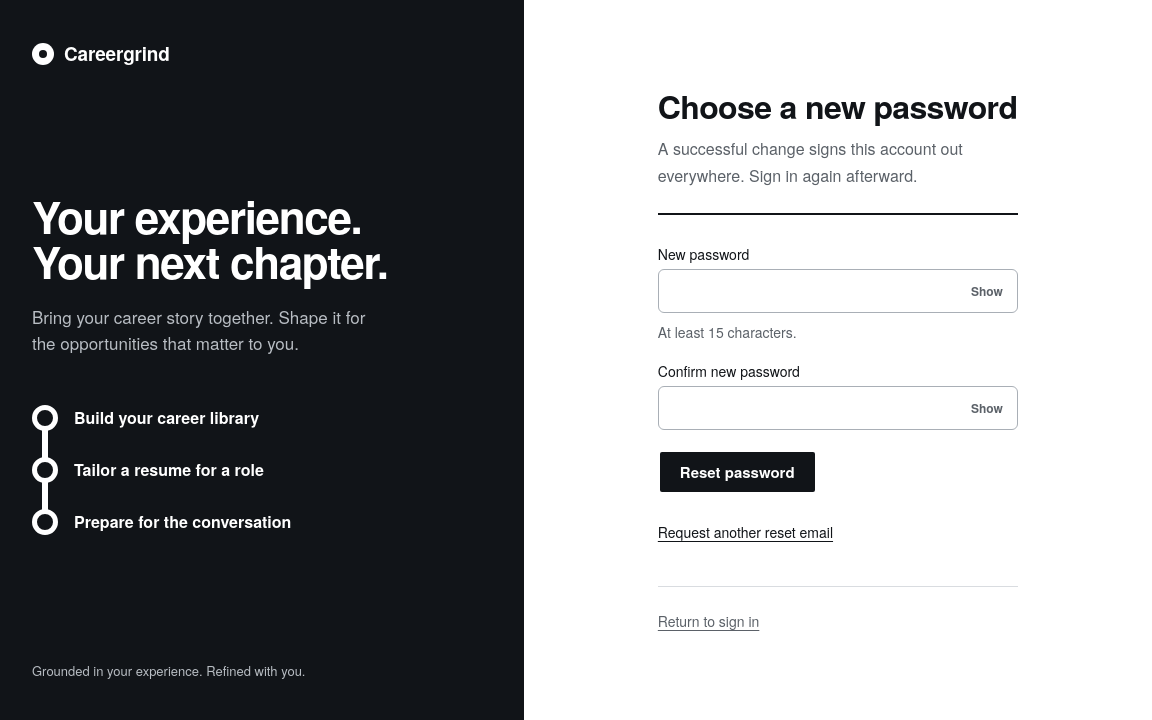
Test: refreshes successful public recovery without switching an unrelated signed-in account
The image size is (1152, 720).
In the password field labelled "New password": (838, 291) [658,269,1018,313], type "a quiet orchard after rain"
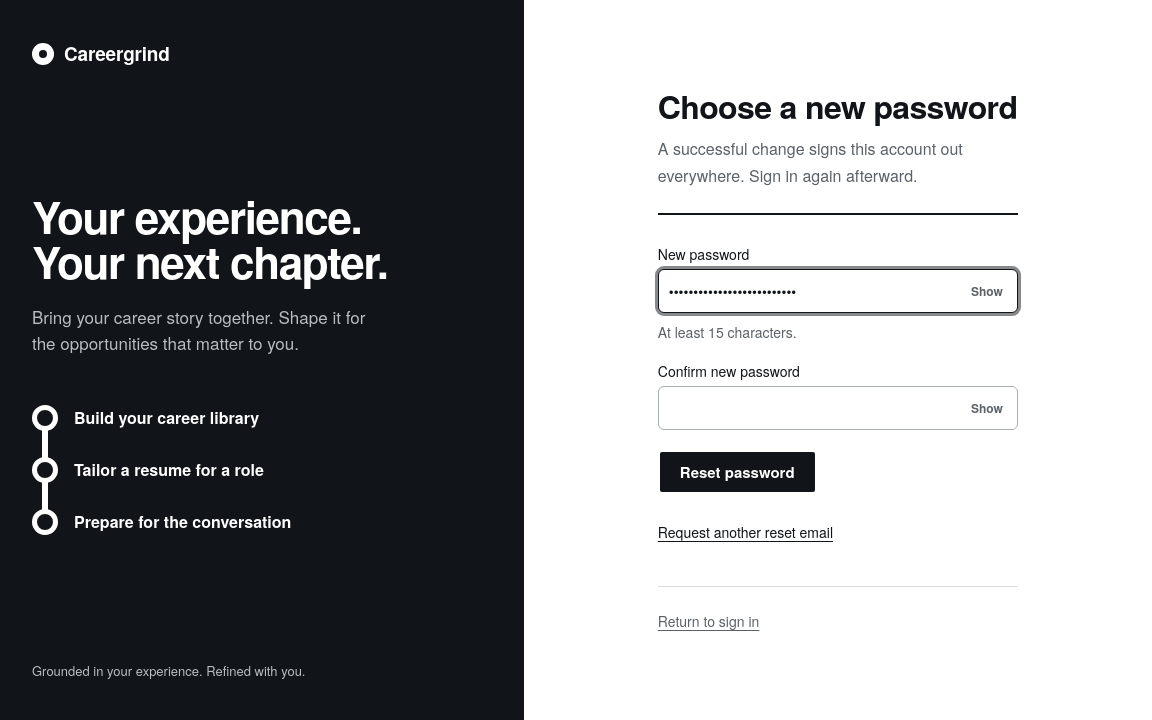
In the password field labelled "Confirm new password": (838, 408) [658,386,1018,430], type "a quiet orchard after rain"
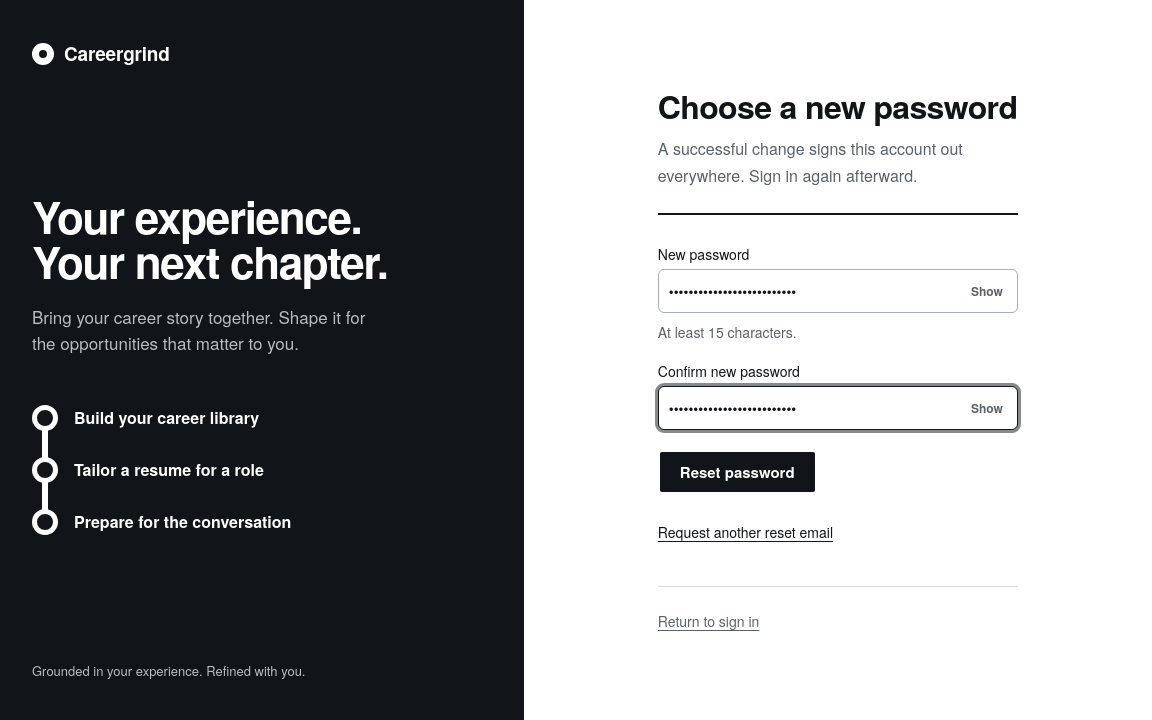
Click the button "Reset password": (737, 472) [658,450,817,494]
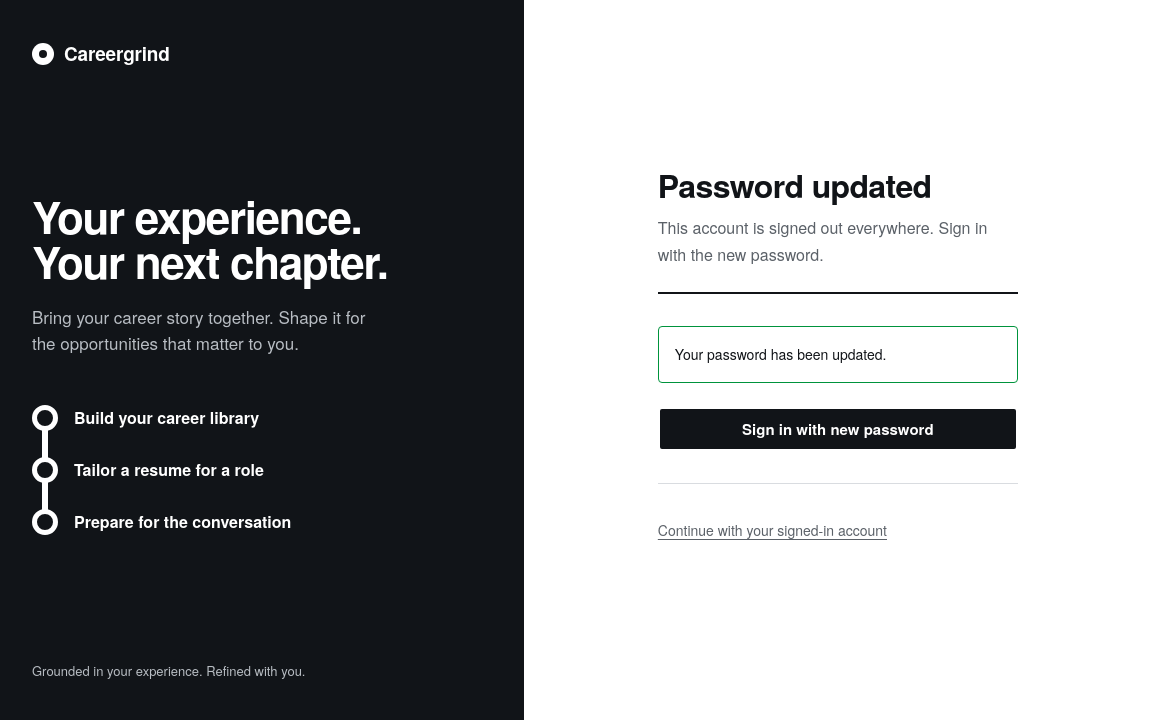
Check: the heading "Password updated" is shown, box [658,162,931,208]
